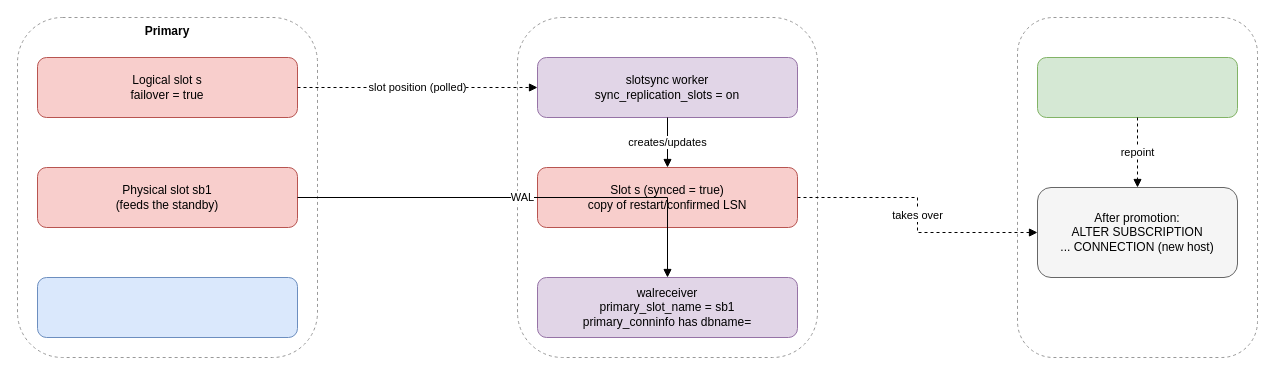
The diagram is 1275 pixels wide and 375 high, and some of its shapes have lost their labels. The shapes that lost their labels are listed below. From the top down, each one's box as (x1, y1, x2, y2) in pixels, then its label:
(1036, 56, 1238, 118): Apply worker subscription failover=true
(516, 16, 818, 358): Physical standby
(1016, 16, 1258, 358): Subscriber
(36, 276, 298, 338): synchronized_standby_slots='sb1' (logical walsender waits for sb1)
